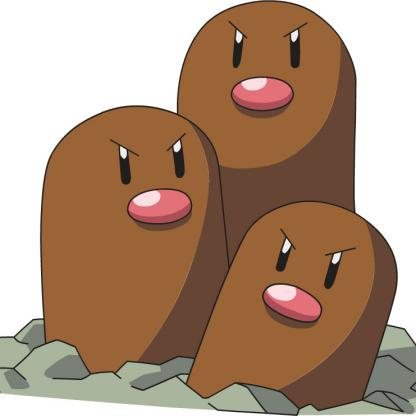Dugtrio: (23, 1, 416, 416)
